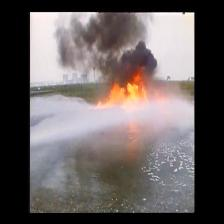fire: (106, 80, 152, 106)
smoke: (63, 15, 154, 77)
